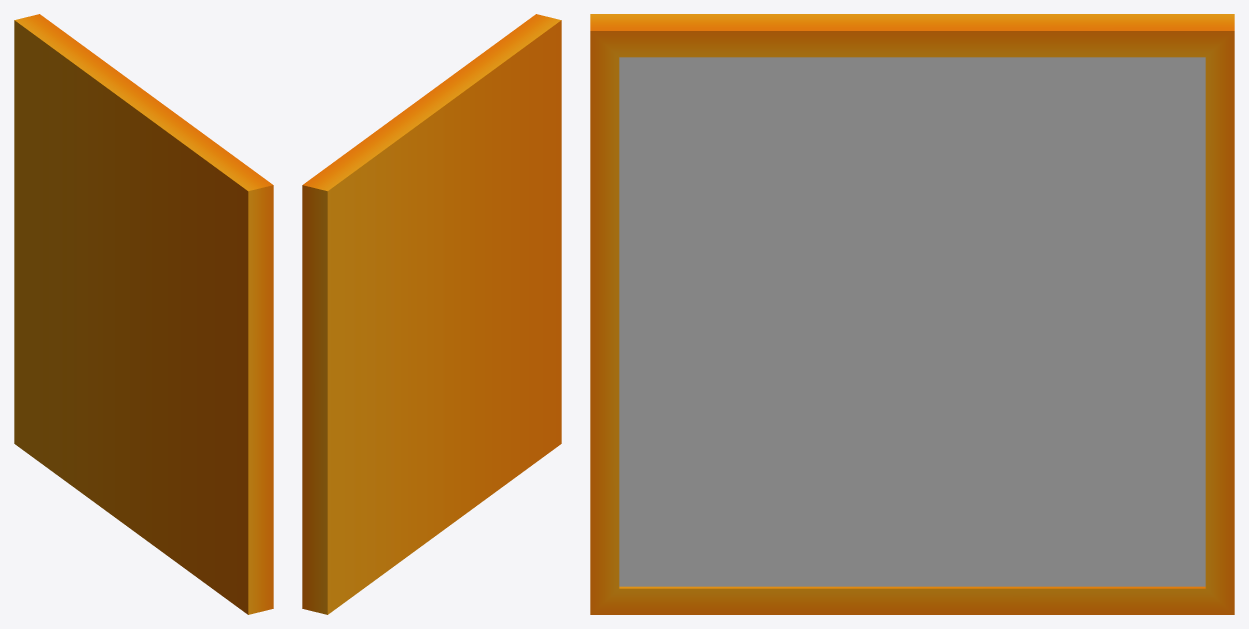
Rendered from picture_frame_02.fbx.
The picture shows the model from 3 angles, left to right: view 1: azimuth 30°, elevation 25°; view 2: azimuth 150°, elevation 25°; view 3: azimuth 270°, elevation 25°; orthographic projection. The views are drawn at different scales.
Visible parts, largest first — view 1: picture_frame_big; view 2: picture_frame_big; view 3: picture_frame_big.
Part boxes in pixels (x1,y1,x2,y2): picture_frame_big: (14,14,273,614); picture_frame_big: (302,14,561,614); picture_frame_big: (590,14,1234,614).
Bounding box in the file's own units: 2 × 32 × 32.
